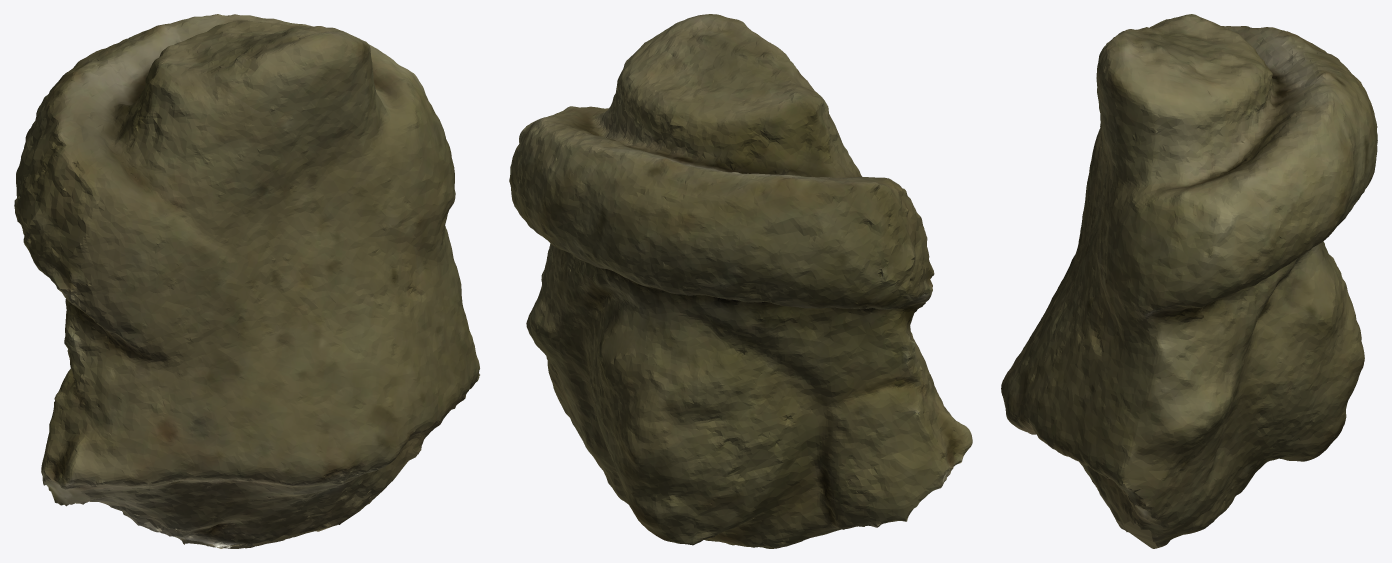
3 views of the same model, side by side, from view 1: azimuth 30°, elevation 25°; view 2: azimuth 150°, elevation 25°; view 3: azimuth 270°, elevation 25° (orthographic). The views are drawn at different scales.
Visible parts, largest first — view 1: Mesh_0.010; view 2: Mesh_0.010; view 3: Mesh_0.010.
Boxes of the visible parts, box(x1,y1,x2,y2) form: Mesh_0.010: box(14, 14, 479, 548); Mesh_0.010: box(509, 14, 972, 548); Mesh_0.010: box(1001, 14, 1377, 548).
Bounding box in the file's own units: 0.1852 × 0.218 × 0.1506.
1 material, 1 textured.
